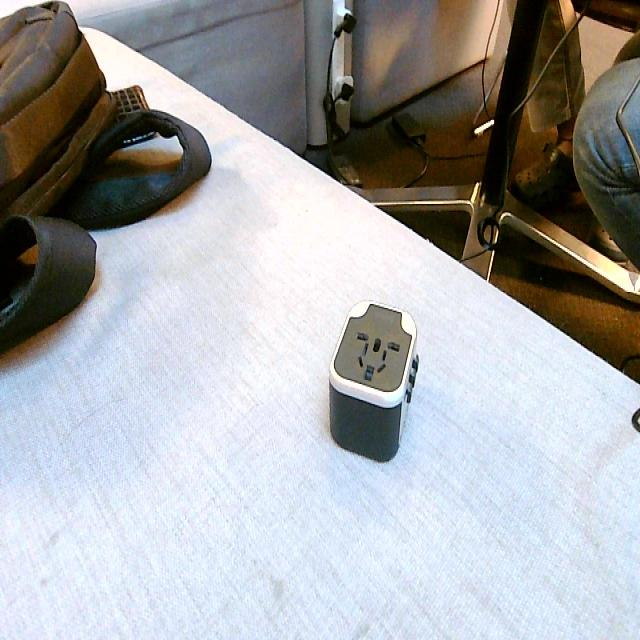adapter: (327, 299, 419, 461)
